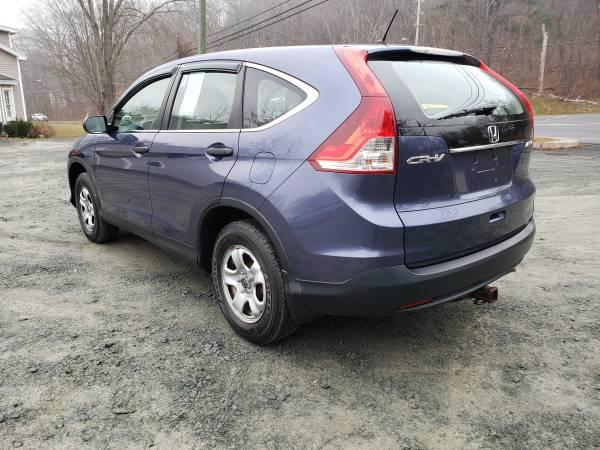Front_Fender: (68, 135, 100, 180)
Front_Left_Door: (96, 129, 162, 240)
Front_Left_Window: (103, 69, 179, 128)
Left_Taillight: (306, 48, 397, 174)
Rear_Bumper: (253, 161, 534, 318)
Rear_Fender: (219, 59, 362, 210)
Rear_Left_Door: (148, 130, 238, 264)
Rear_Left_Window: (157, 62, 243, 129)
Rear_Windshield: (363, 49, 532, 127)
Roof: (101, 41, 472, 119)
Tailgate: (392, 120, 534, 270)
Wheel: (204, 218, 282, 347), (73, 172, 121, 245)
